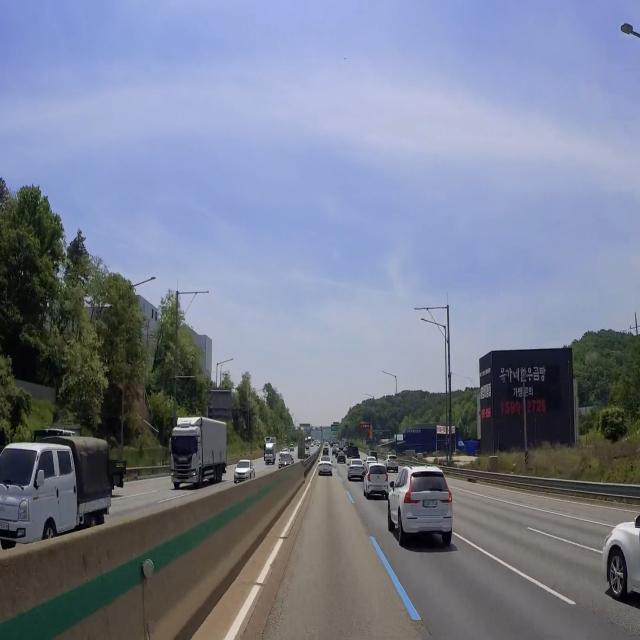car: (423, 495, 439, 513), (0, 517, 10, 536), (372, 483, 384, 494), (321, 465, 330, 477), (177, 476, 188, 484), (353, 467, 361, 478), (390, 462, 396, 468)
